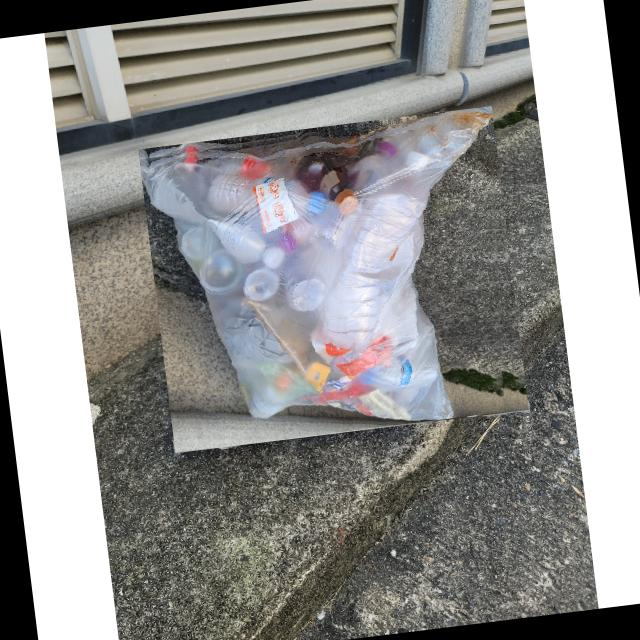other_trashbag: (138, 106, 490, 419)
